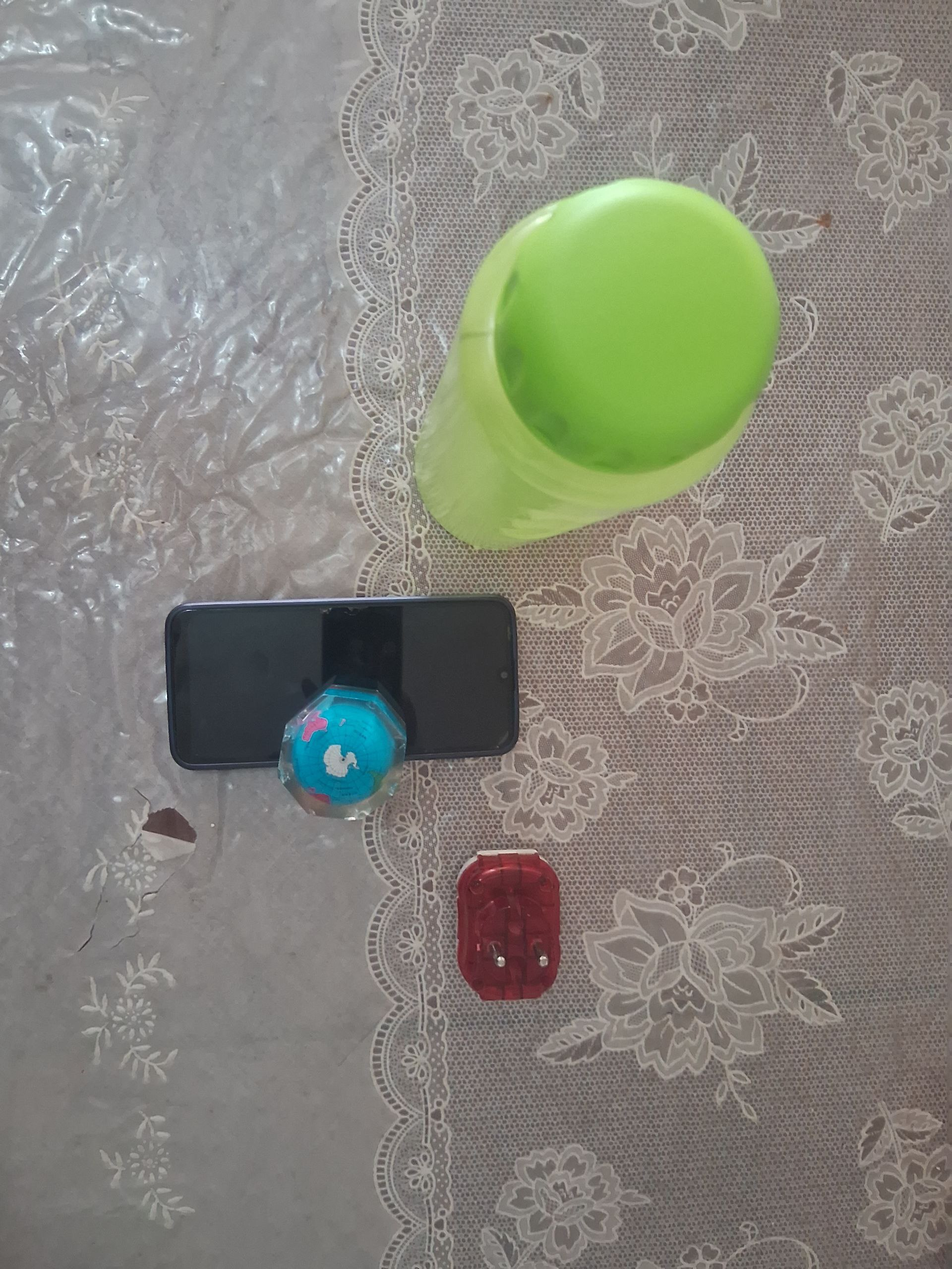Multi_adapter: (448, 844, 571, 1005)
Smart_phone: (158, 589, 525, 772)
Water_bottle: (382, 162, 796, 564)
world_globe: (272, 677, 411, 821)
